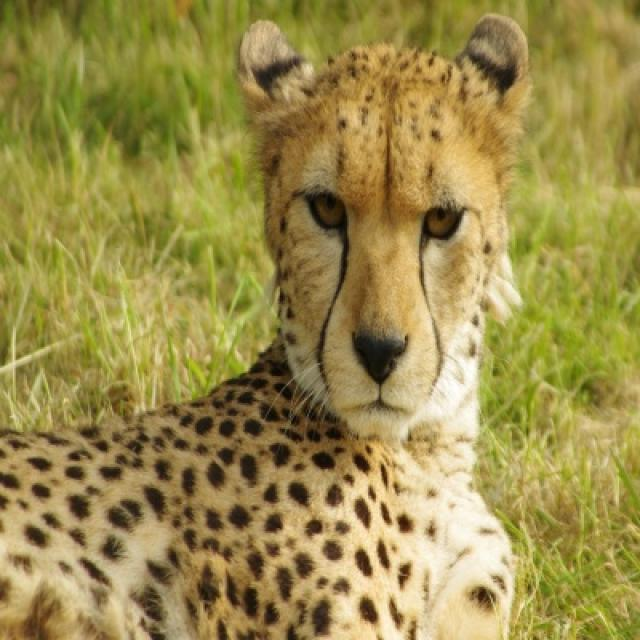Cheetah: (0, 14, 533, 638)
